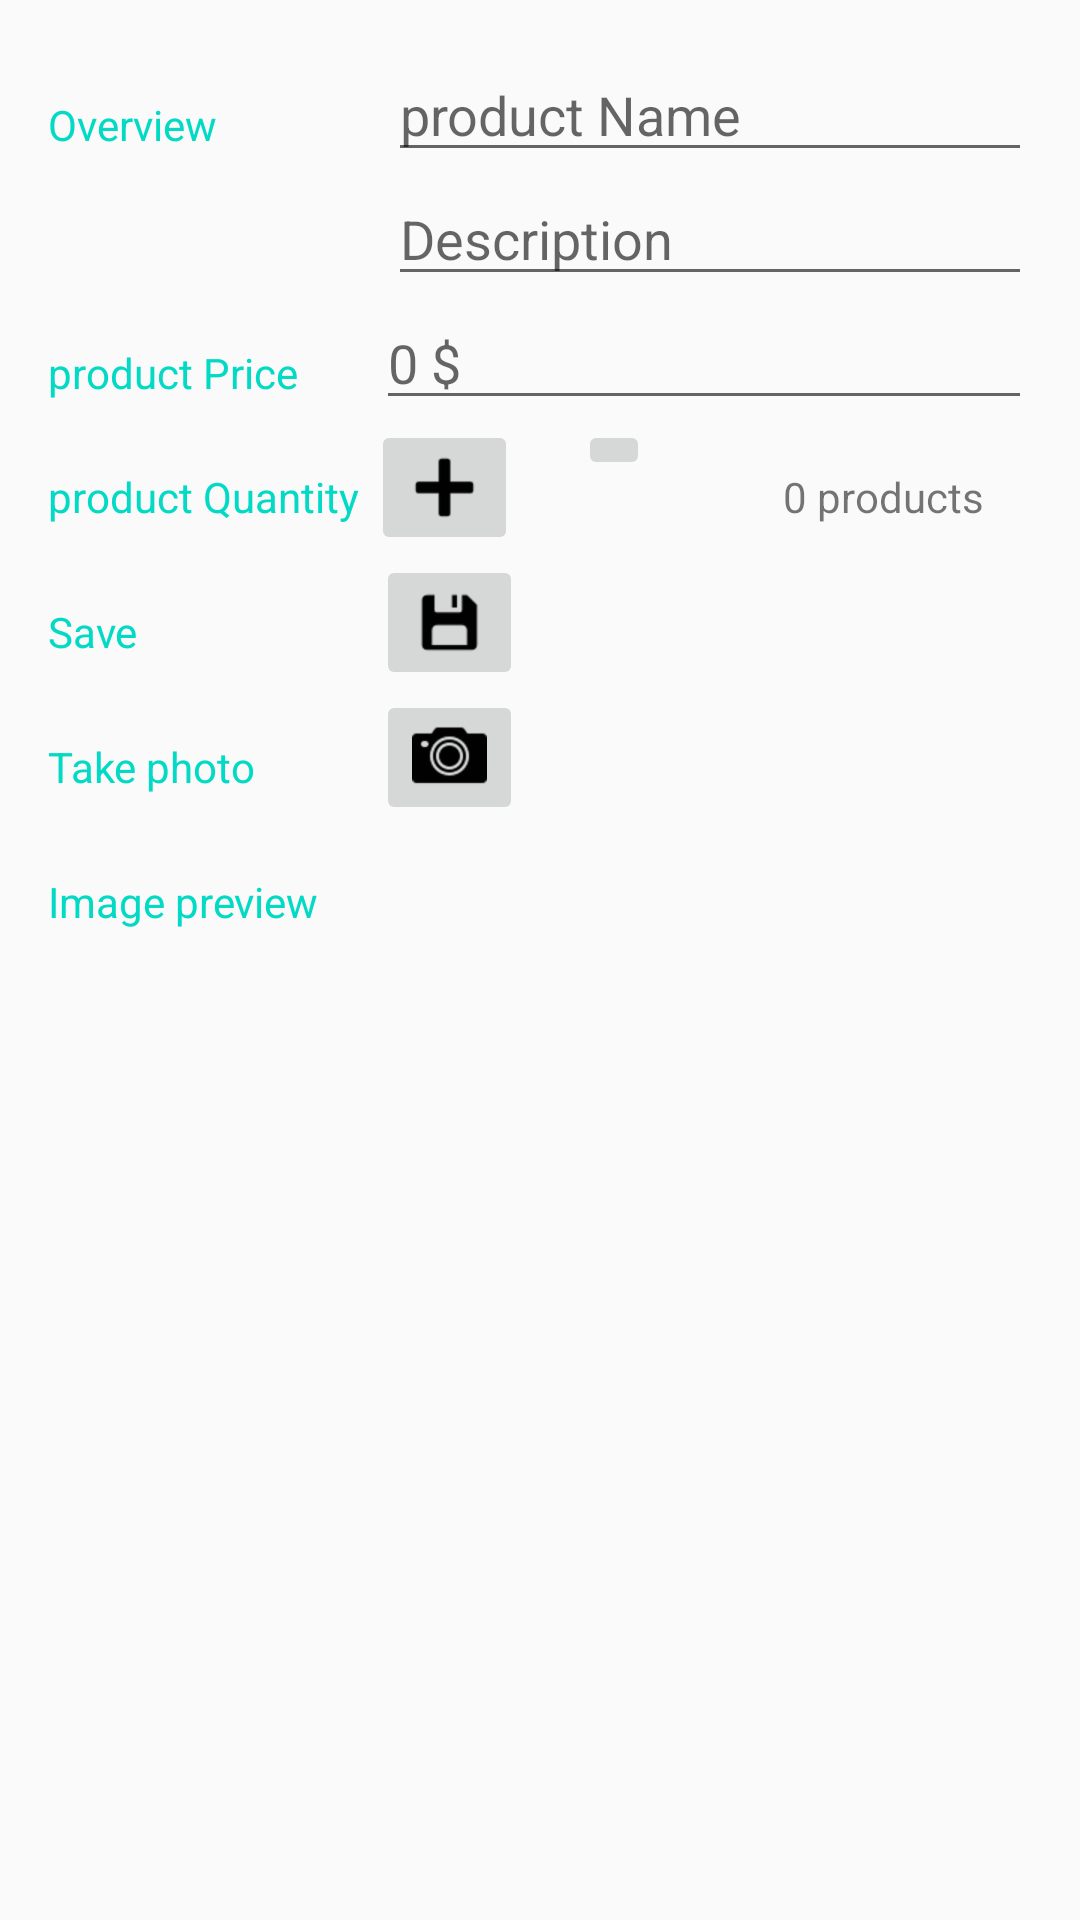

Icon click points for this 1080*1920 phone screenshot, format point (x, y):
compact camera: point (449, 757)
plus math: point (444, 487)
